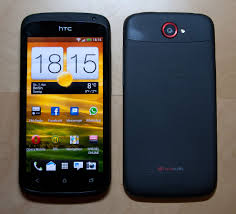htc: (15, 10, 112, 204), (122, 8, 219, 202)
